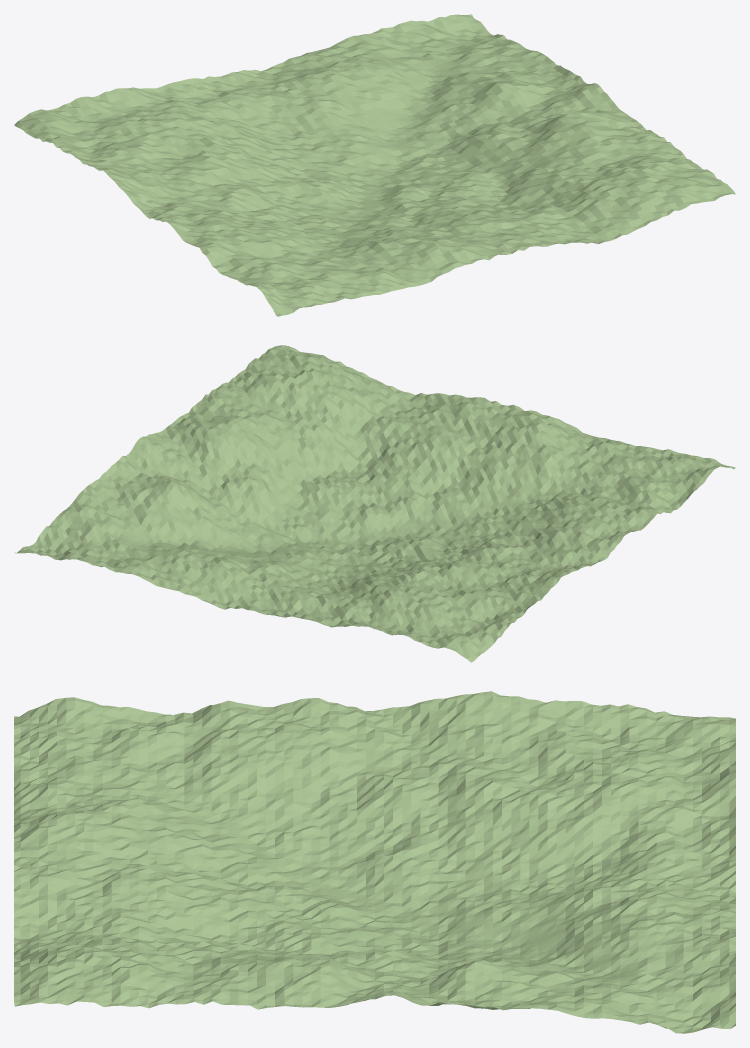
File: TerrainHard.fbx
3 renders of one model, top to bottom at view 1: azimuth 30°, elevation 25°; view 2: azimuth 150°, elevation 25°; view 3: azimuth 270°, elevation 25°, orthographic. The views are drawn at different scales.
Visible parts, largest first — view 1: pPlane1; view 2: pPlane1; view 3: pPlane1.
Boxes of the visible parts, box(x1,y1,x2,y2) form: pPlane1: box(14, 14, 735, 316); pPlane1: box(15, 345, 735, 662); pPlane1: box(14, 691, 735, 1033).
Size of the model in its own units: 19875 by 2070 by 19875.
